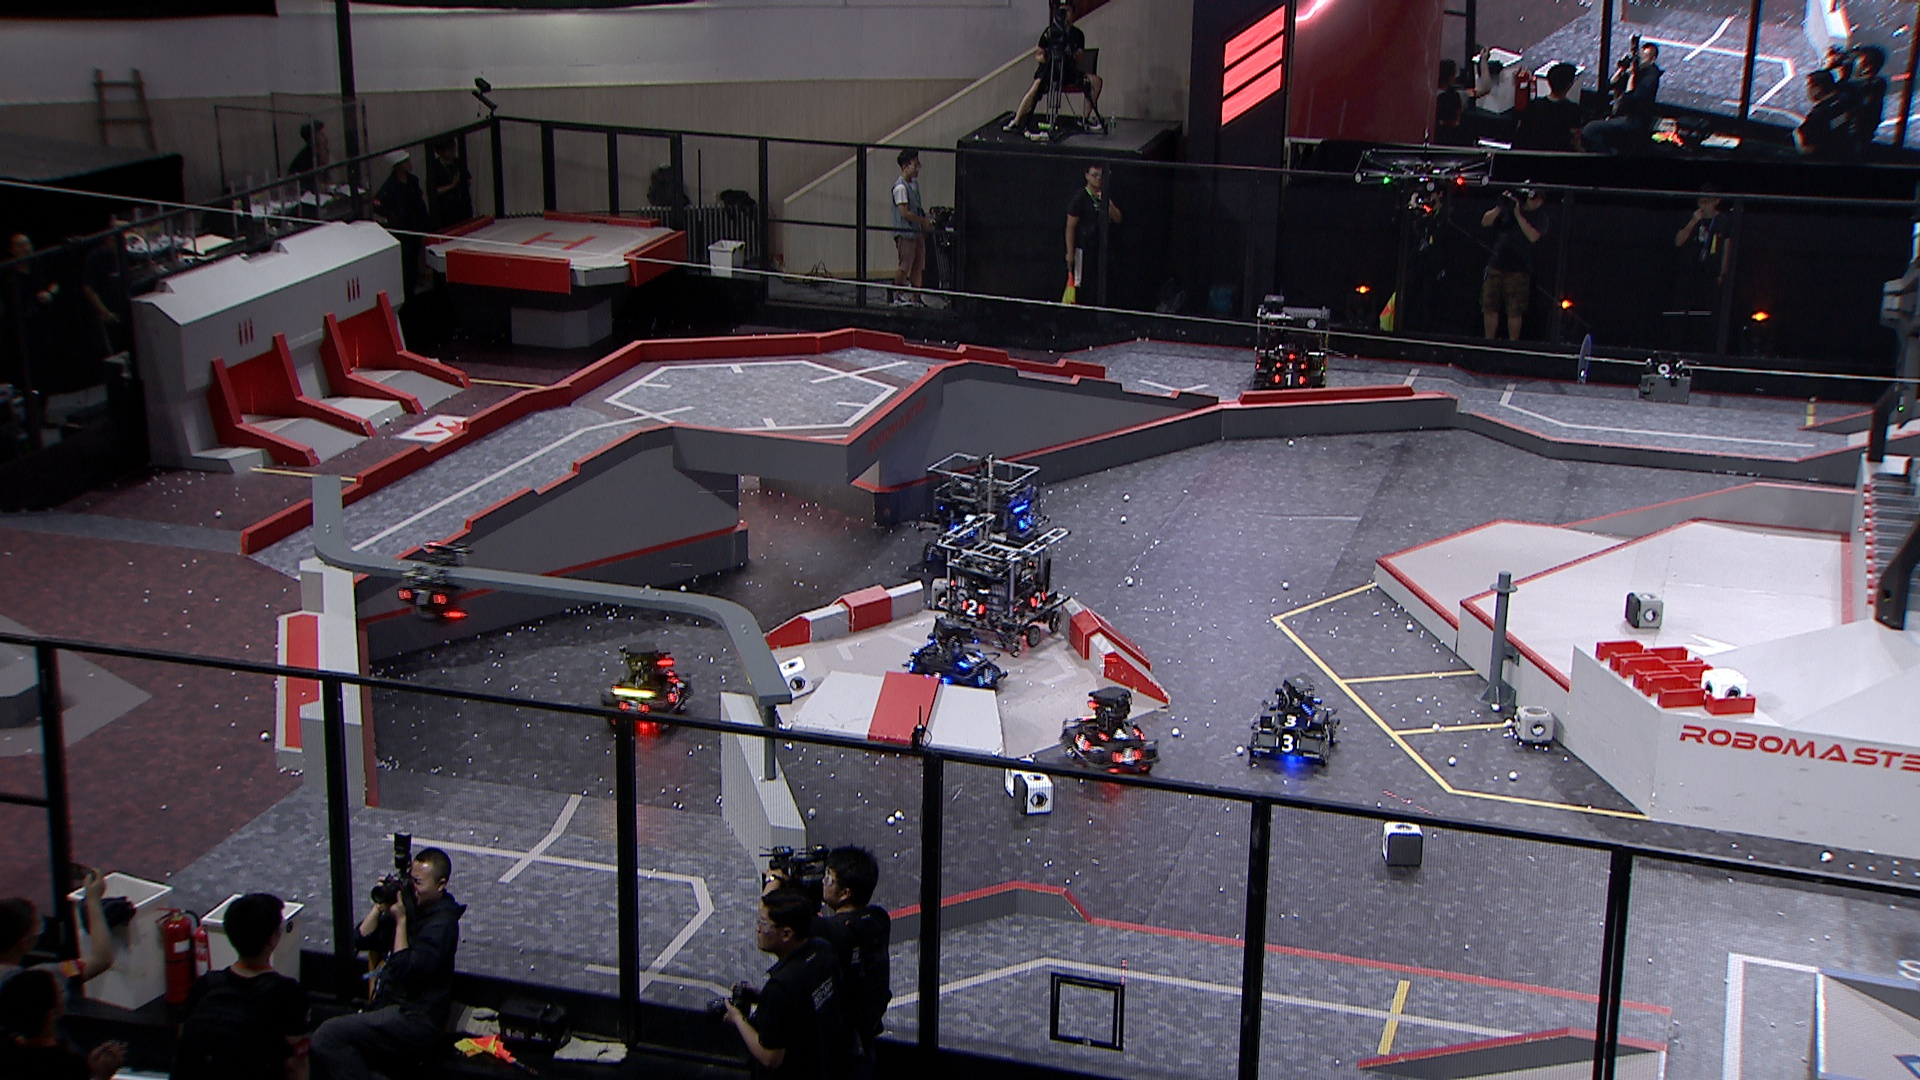armor: (396, 588, 447, 607), (1112, 746, 1145, 767), (1271, 713, 1311, 731), (1096, 727, 1139, 740), (1275, 733, 1302, 754), (956, 650, 984, 670), (960, 597, 986, 617), (618, 698, 651, 713), (1273, 373, 1307, 386), (1273, 360, 1309, 372), (927, 670, 953, 684), (1072, 733, 1092, 752), (1029, 589, 1046, 611), (667, 684, 684, 705), (1017, 513, 1034, 531), (977, 669, 996, 684), (1320, 725, 1335, 744)
car: (939, 510, 1077, 659), (922, 454, 1054, 579), (898, 617, 1006, 711), (1059, 684, 1162, 782), (1244, 678, 1338, 774), (597, 641, 694, 733), (1253, 291, 1333, 401)
watcher: (396, 543, 472, 624)
